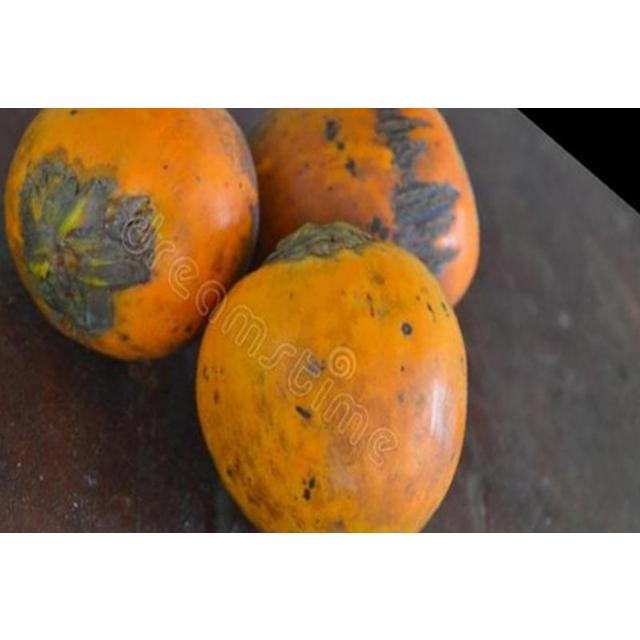good: (197, 222, 466, 532), (6, 107, 258, 359), (249, 107, 477, 303)
